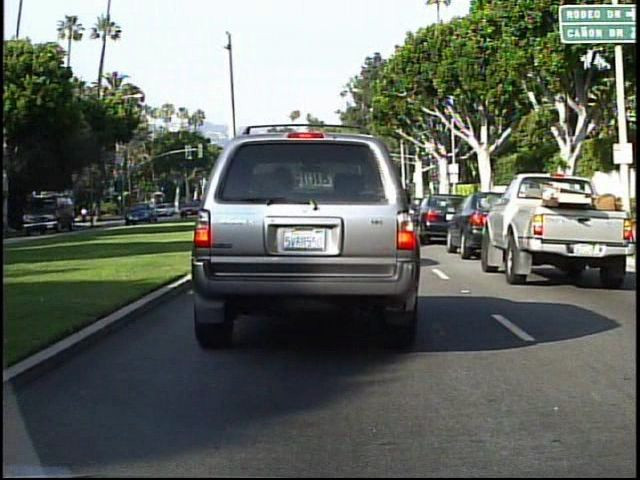person: (80, 205, 89, 225)
